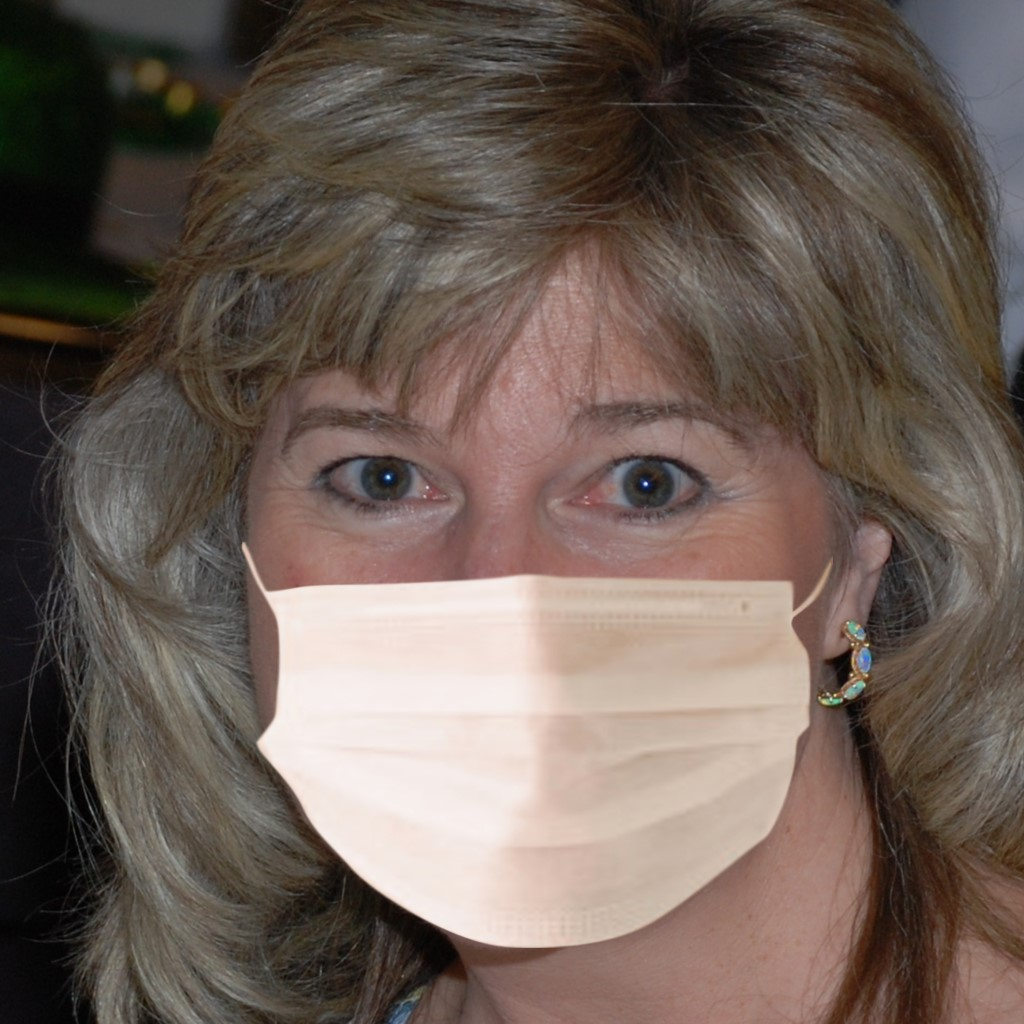con_mascara: (222, 178, 843, 946)
